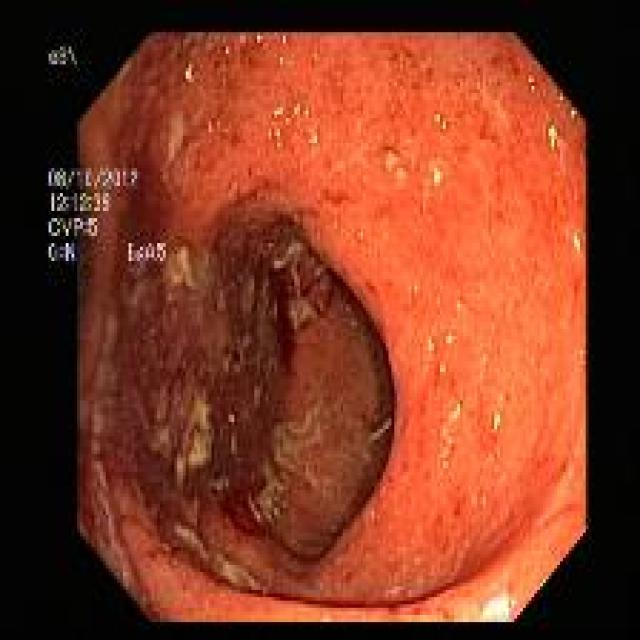ulcerative-colitis: (41, 30, 589, 622)
